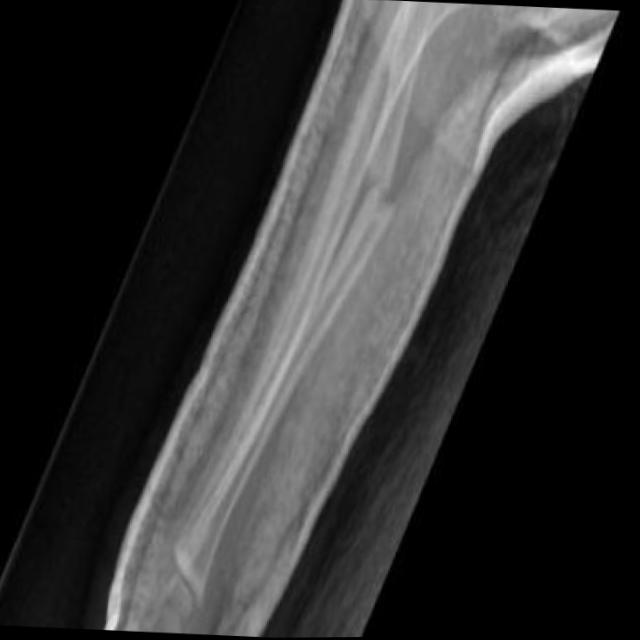fracture: (351, 144, 410, 229)
